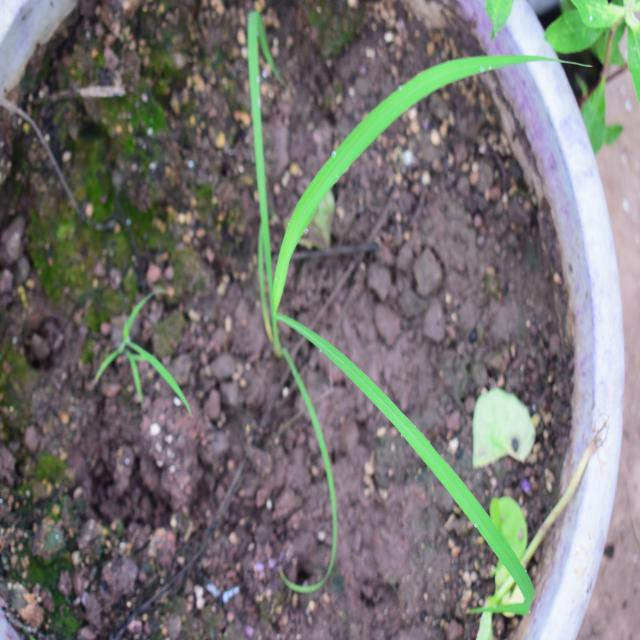barnyard_grass: (225, 16, 535, 568)
